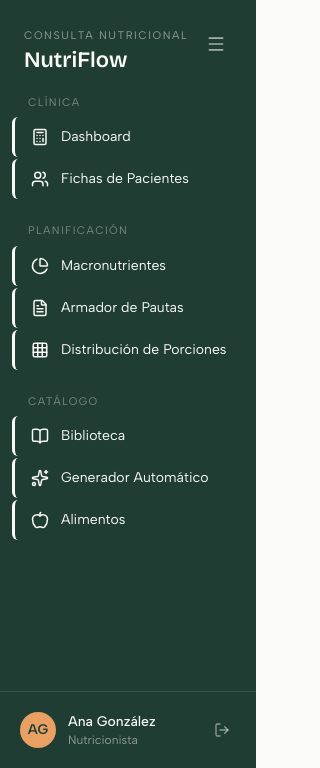
Scenario: Sidebar › collapse / expand › expandir después de colapsar restaura el título NutriFlow
This screenshot has width=320, height=768.
Click the button named "Colapsar menú": x=216, y=44 top-left (200, 28), bottom-right (232, 60)
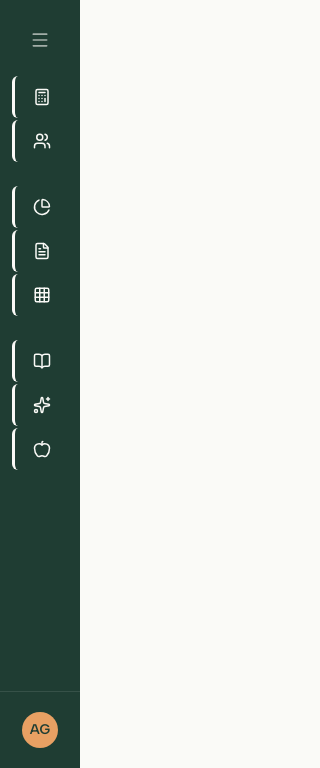
Click the button named "Expandir menú": x=40, y=40 top-left (24, 24), bottom-right (56, 56)
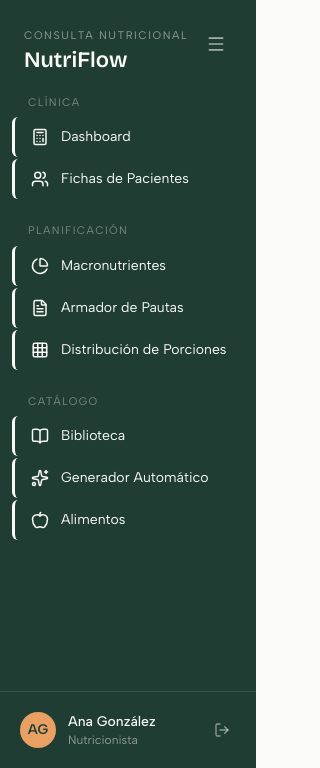
Check: the heading "NutriFlow" is shown, box top-left (24, 46), bottom-right (127, 72)
